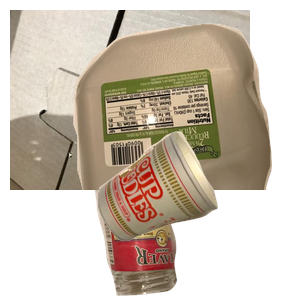cardboard: (10, 10, 250, 190)
glass: (91, 142, 260, 300)
plastic: (71, 21, 300, 201)
trash: (95, 129, 300, 300)
